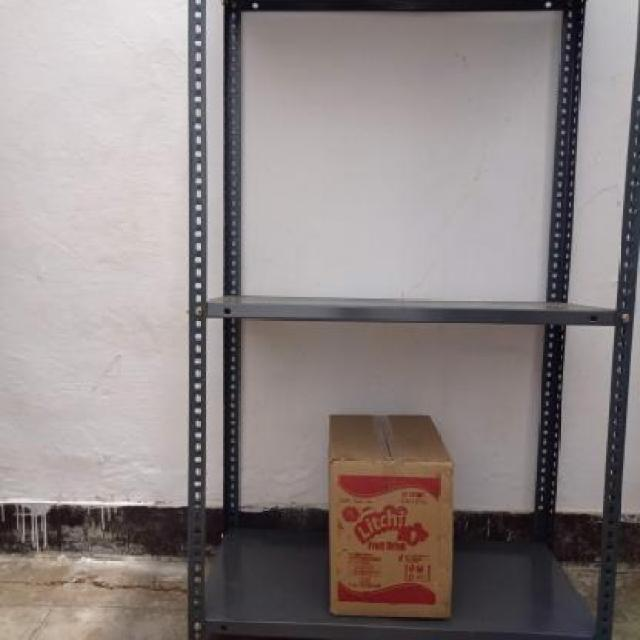box: (329, 456, 454, 621)
